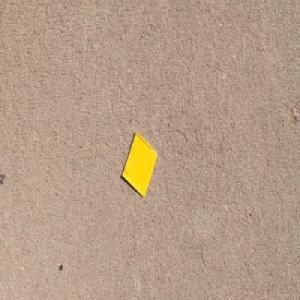PlasticPart: (121, 130, 158, 198)
